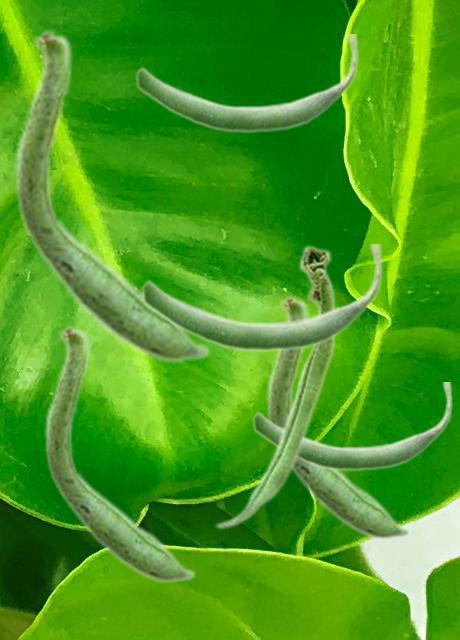french_bean: (14, 26, 210, 363), (44, 323, 195, 583), (266, 293, 410, 540), (214, 243, 335, 529), (141, 244, 382, 352), (135, 34, 358, 133), (252, 382, 452, 471)
